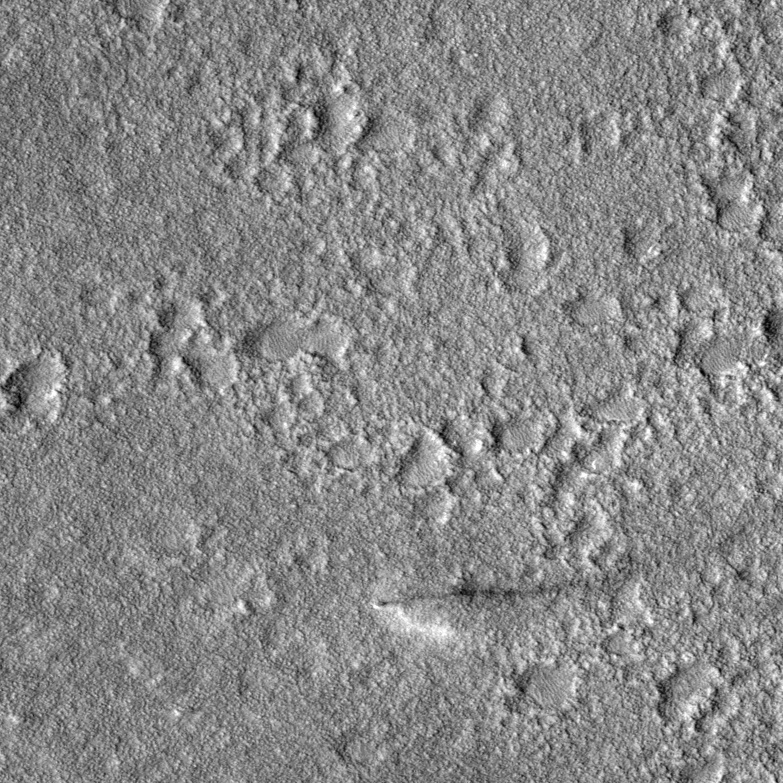dust_devil: (367, 565, 628, 649)
